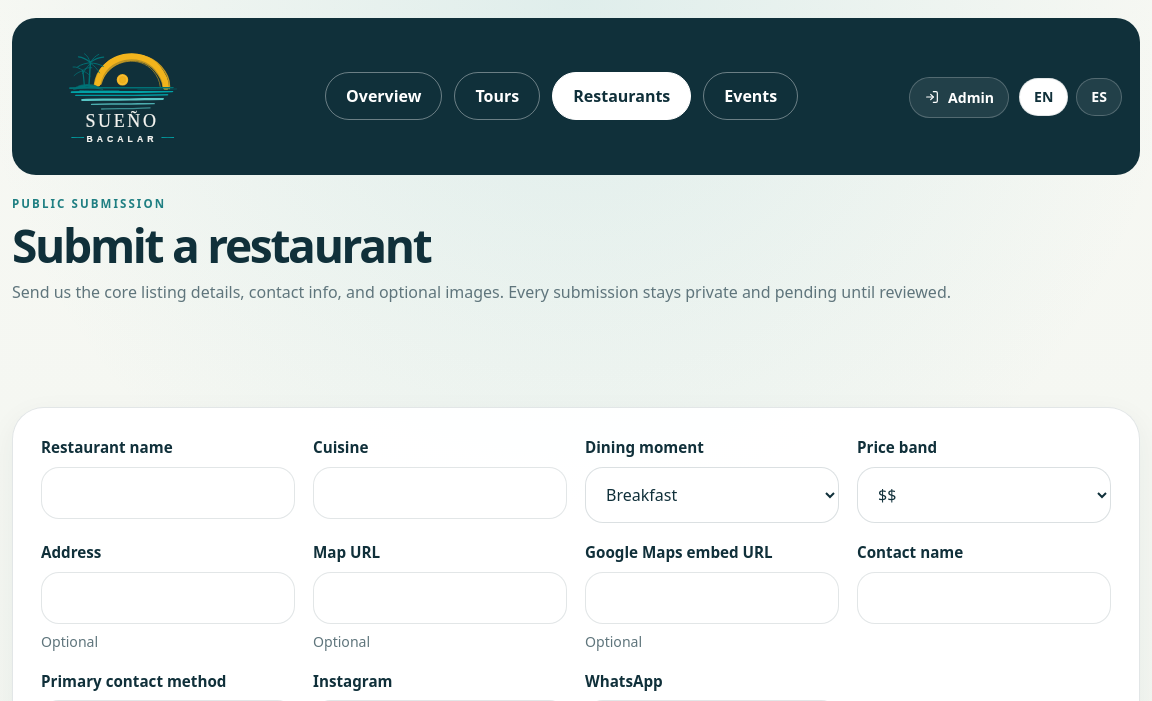
Test: RestaurantSubmissionPage › renders server-side submission errors when the final save fails
This screenshot has width=1152, height=701.
In the field named "Restaurant name": (168, 493) [41, 467, 295, 519], type "Bruma Azul"
In the field named "Cuisine": (440, 493) [313, 467, 567, 519], type "Cafe plates"
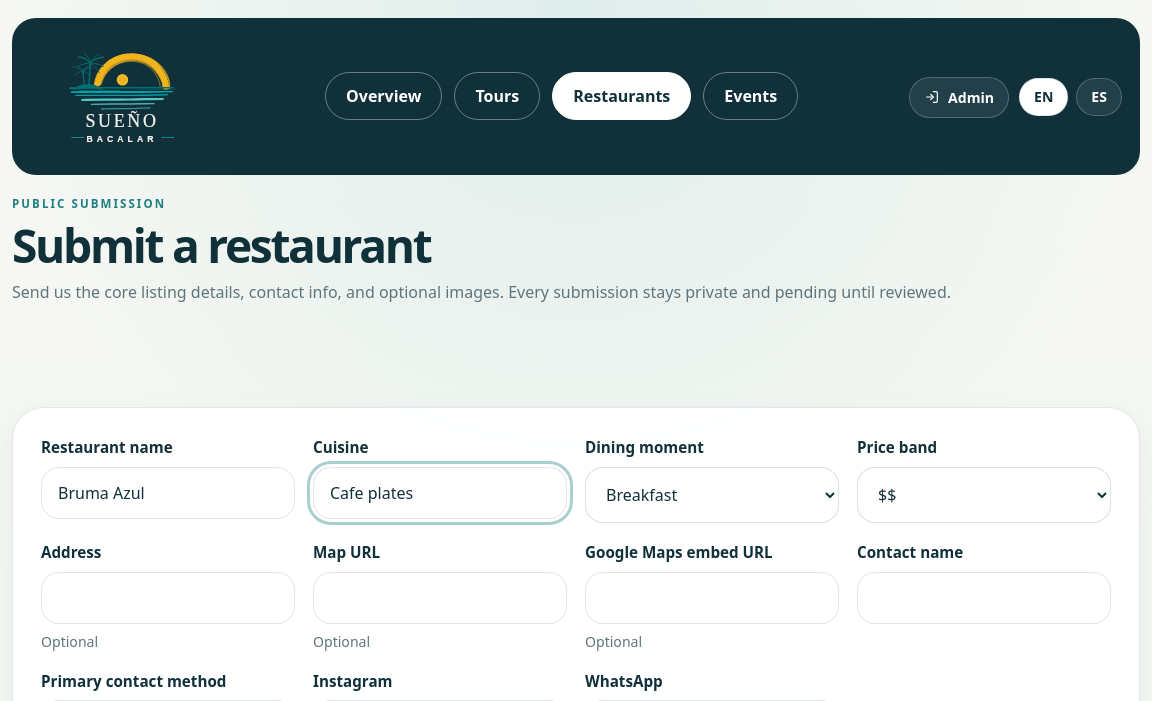
Select "Breakfast" in the dropdown named "Dining moment": (712, 495) [585, 467, 839, 523]
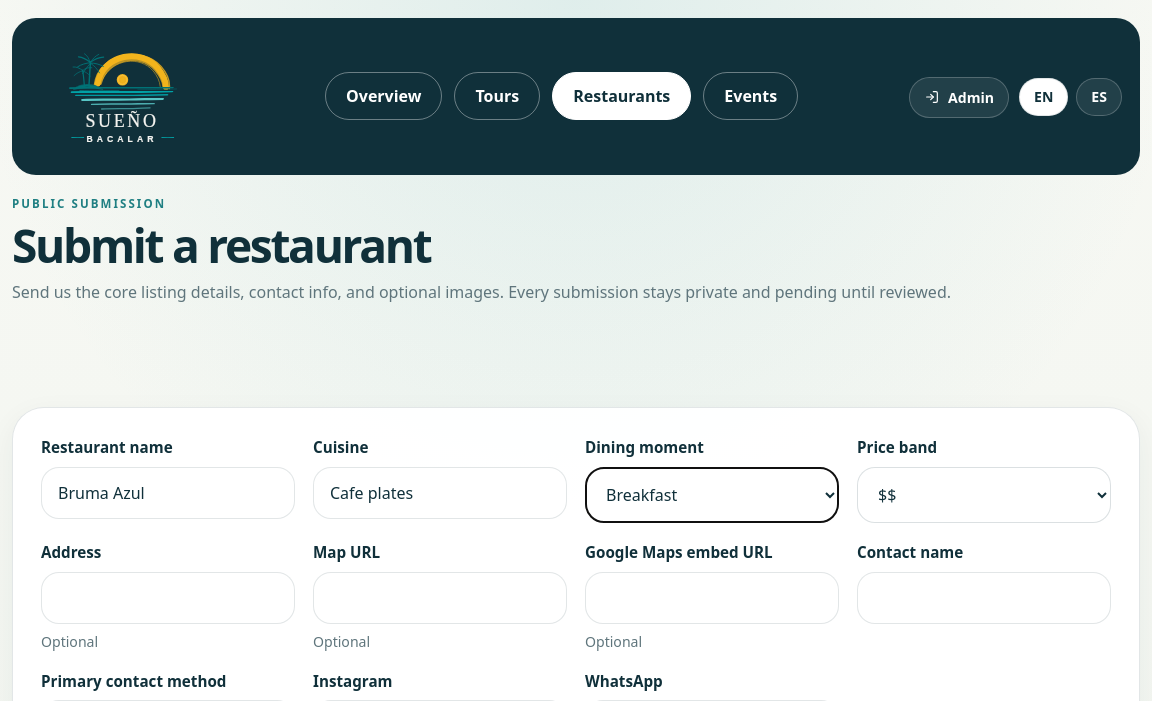
Select "$$" in the dropdown named "Price band": (984, 495) [857, 467, 1111, 523]
(page scrolled)
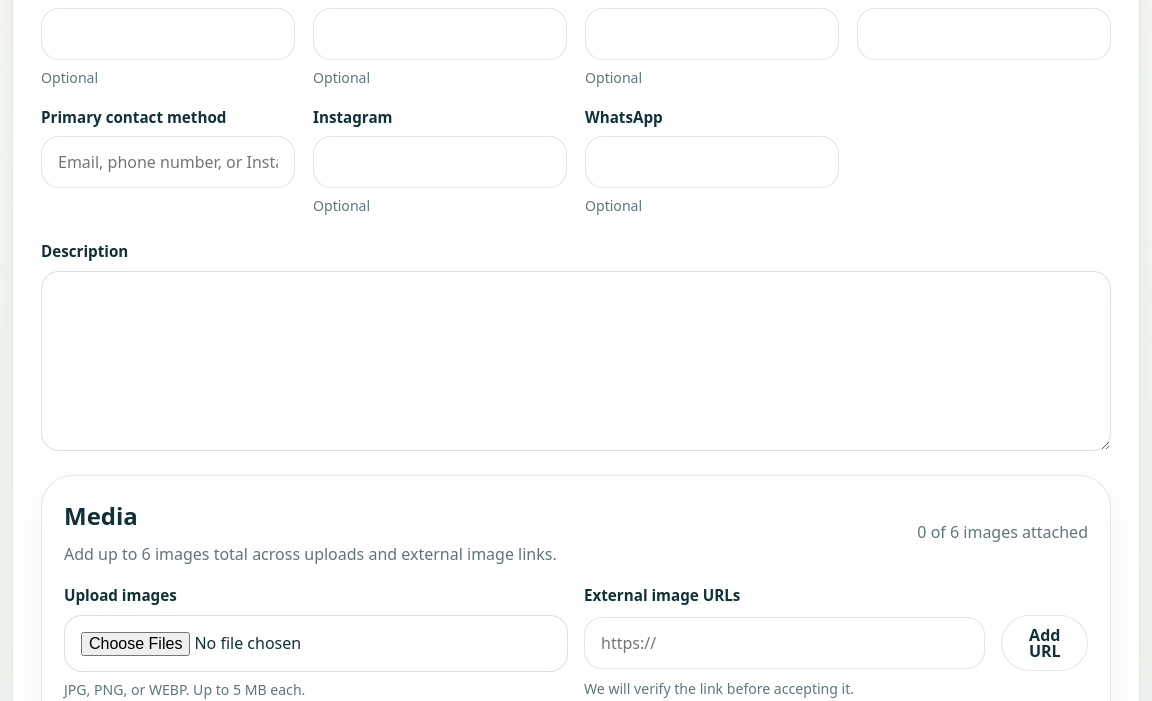
In the text box named "Description": (576, 361) [41, 271, 1111, 451], type "A calm breakfast and coffee stop that works well for travelers easing into the lagoon day."
In the field named "Contact name": (984, 34) [857, 8, 1111, 60], type "Maya Cruz"
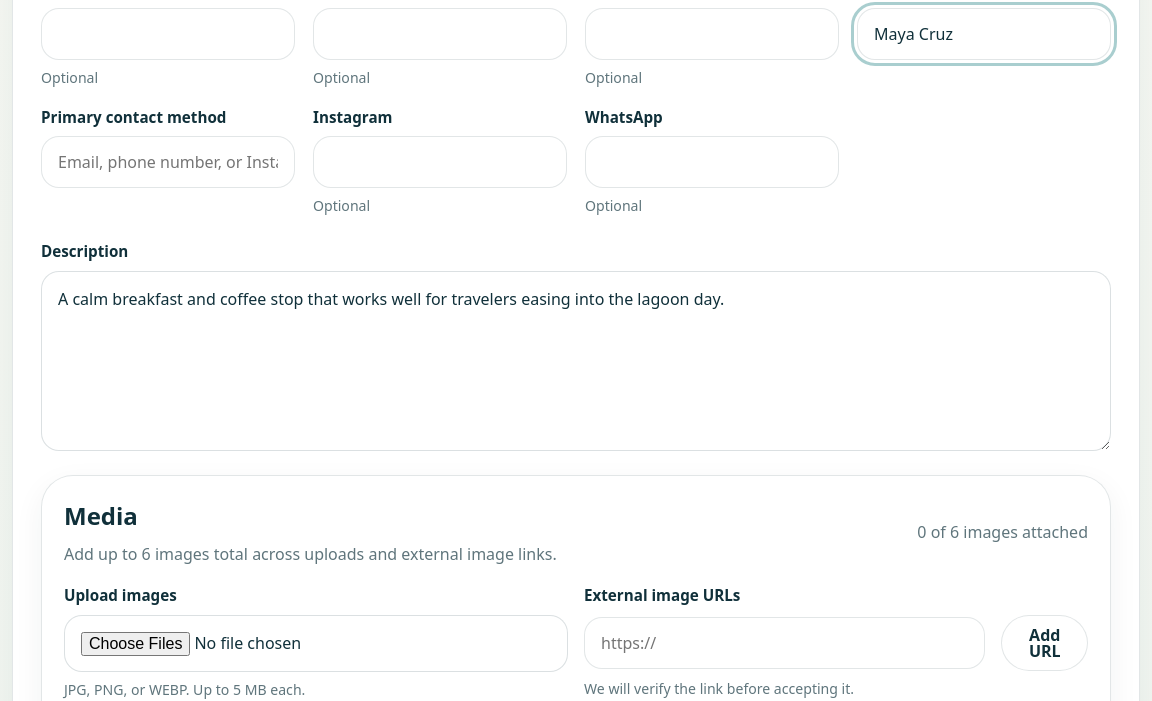
In the field named "Primary contact method": (168, 162) [41, 136, 295, 188], type "maya@example.com"
(page scrolled)
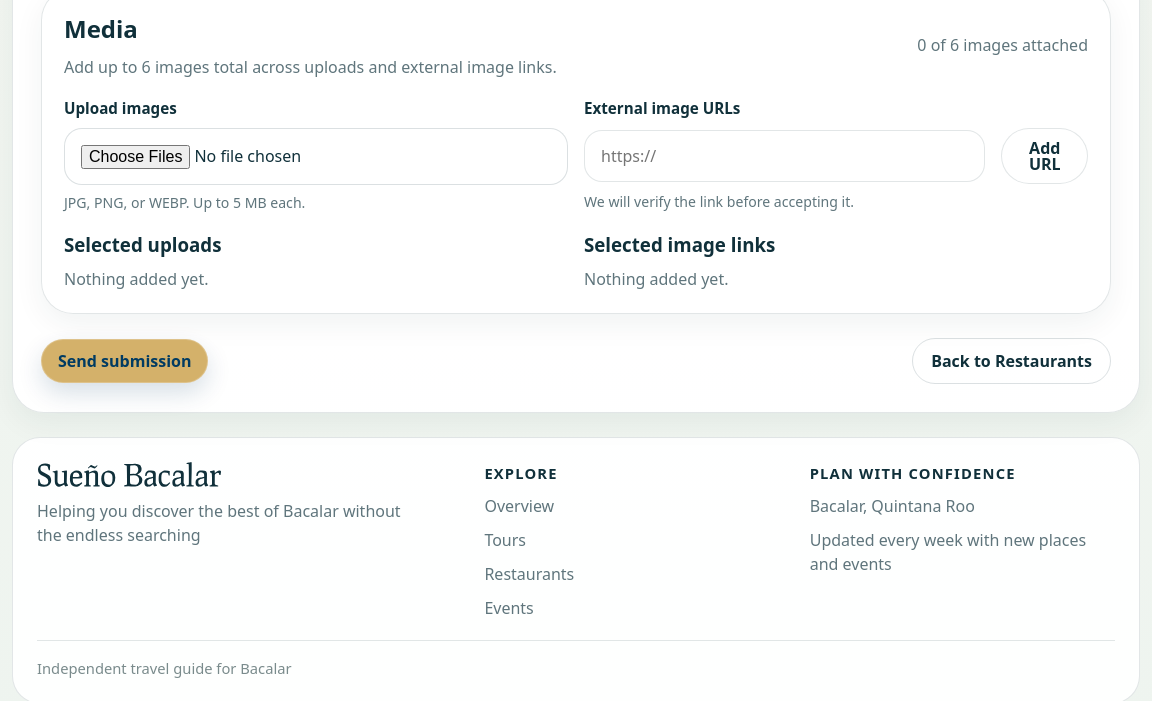
Click the button "Send submission": (125, 361) [41, 339, 208, 383]
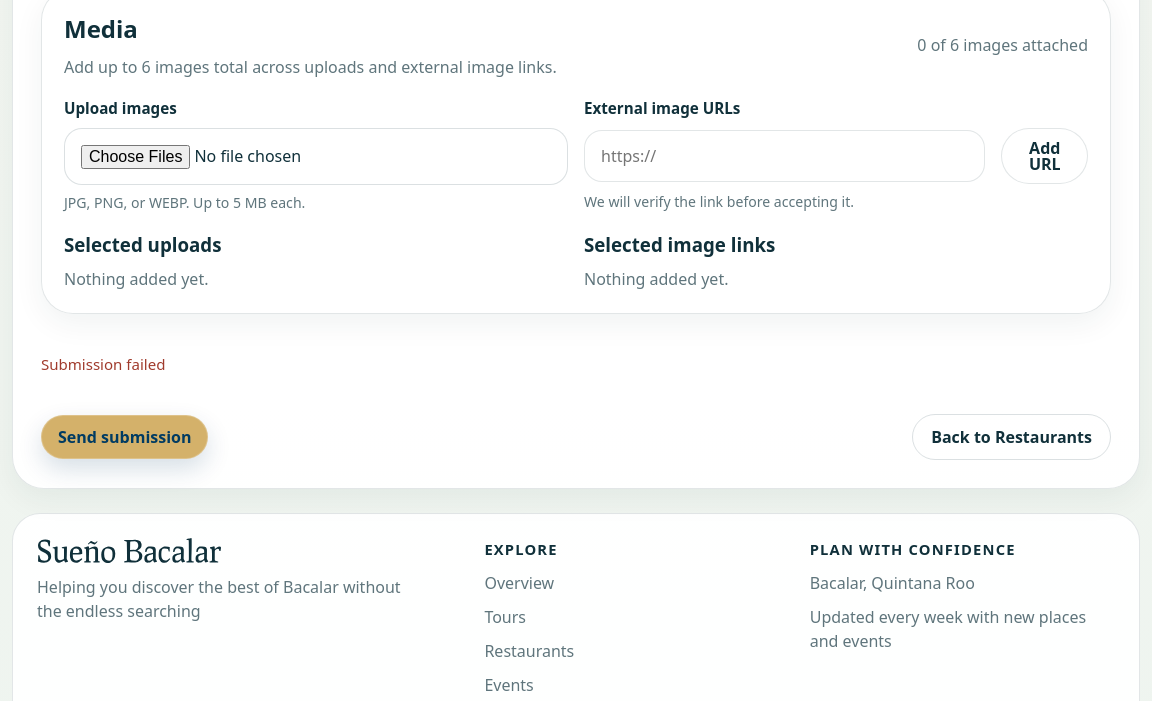
Expected: the text "Submission failed" is shown, [41, 354, 165, 374]
